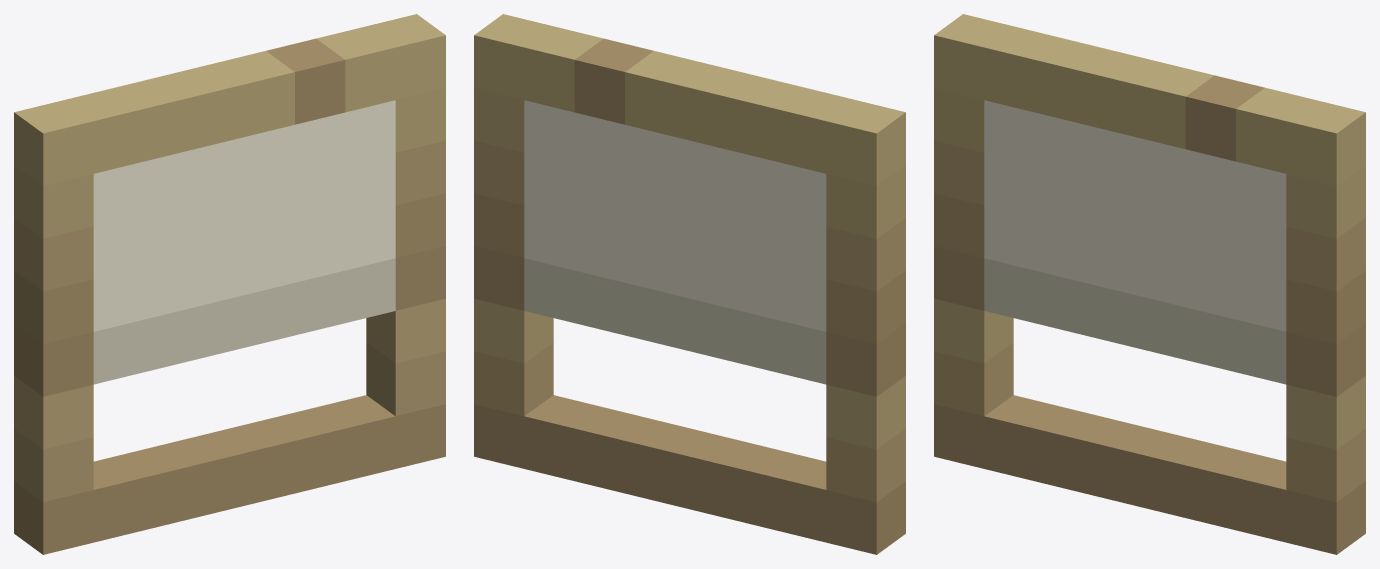
The model's file is Aspen Trapdoor.glb.
3 renders of one model, left to right at view 1: azimuth 30°, elevation 25°; view 2: azimuth 150°, elevation 25°; view 3: azimuth 330°, elevation 25°, orthographic.
Visible parts, largest first — view 1: generated(Clone); view 2: generated(Clone); view 3: generated(Clone).
Part boxes in pixels (left/top/right/bottom): generated(Clone): left=14, top=14, right=445, bottom=554; generated(Clone): left=474, top=14, right=905, bottom=554; generated(Clone): left=934, top=14, right=1365, bottom=554.
Bounding box in the file's own units: 8 × 8 × 1.
Materials: 1 (1 with a texture image).
